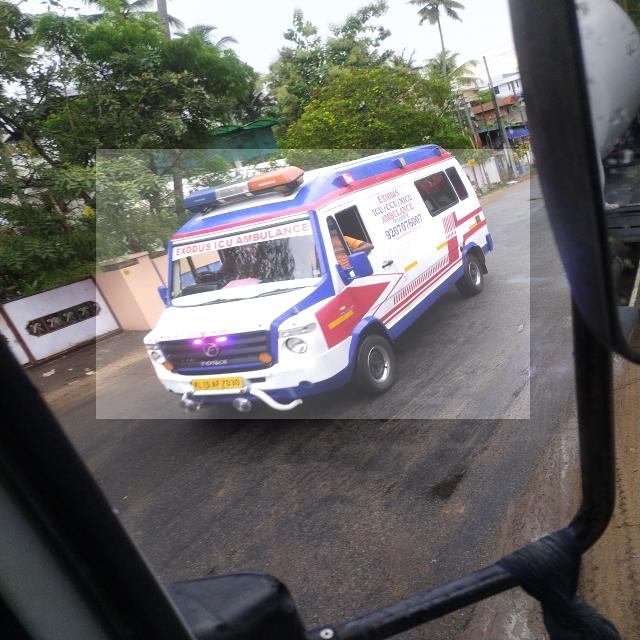Travller: (96, 149, 530, 419)
